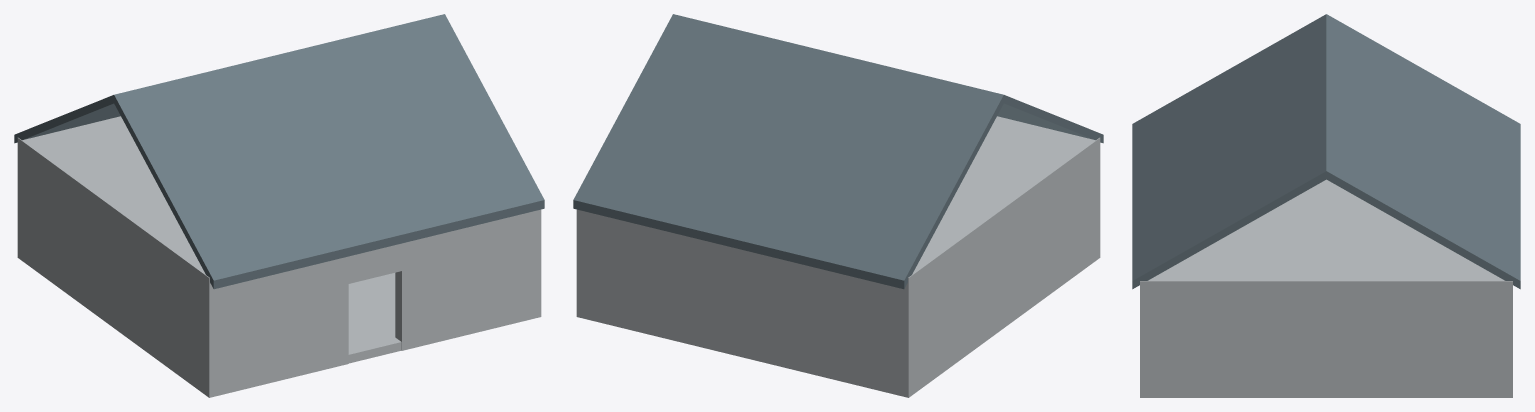
Rendered from house_1_lod2.glb.
3 views of the same model, side by side, from view 1: azimuth 30°, elevation 25°; view 2: azimuth 150°, elevation 25°; view 3: azimuth 270°, elevation 25° (orthographic). The views are drawn at different scales.
Parts seen in each view (by area): view 1: Roof shell baked, Wall_0 baked, Wall_3 baked, Ceiling baked, Floor baked, Wall_1 baked; view 2: Roof shell baked, Wall_1 baked, Wall_3 baked, Ceiling baked, Wall_0 baked; view 3: Roof shell baked, Wall_2 baked, Ceiling baked, Wall_0 baked, Wall_1 baked.
Part boxes in pixels (<box>): Roof shell baked: <box>14,14,544,289</box>; Wall_0 baked: <box>202,209,541,397</box>; Wall_3 baked: <box>24,151,202,392</box>; Ceiling baked: <box>17,116,211,286</box>; Floor baked: <box>348,273,401,363</box>; Wall_1 baked: <box>17,147,24,261</box>; Roof shell baked: <box>573,14,1103,289</box>; Wall_1 baked: <box>576,209,915,397</box>; Wall_3 baked: <box>915,151,1093,392</box>; Ceiling baked: <box>906,116,1100,286</box>; Wall_0 baked: <box>1093,147,1100,261</box>; Roof shell baked: <box>1132,14,1520,289</box>; Wall_2 baked: <box>1153,289,1499,397</box>; Ceiling baked: <box>1140,179,1512,289</box>; Wall_0 baked: <box>1140,289,1152,397</box>; Wall_1 baked: <box>1500,289,1512,397</box>.
Bounding box in the file's own units: 10 × 6.7 × 10.4.
